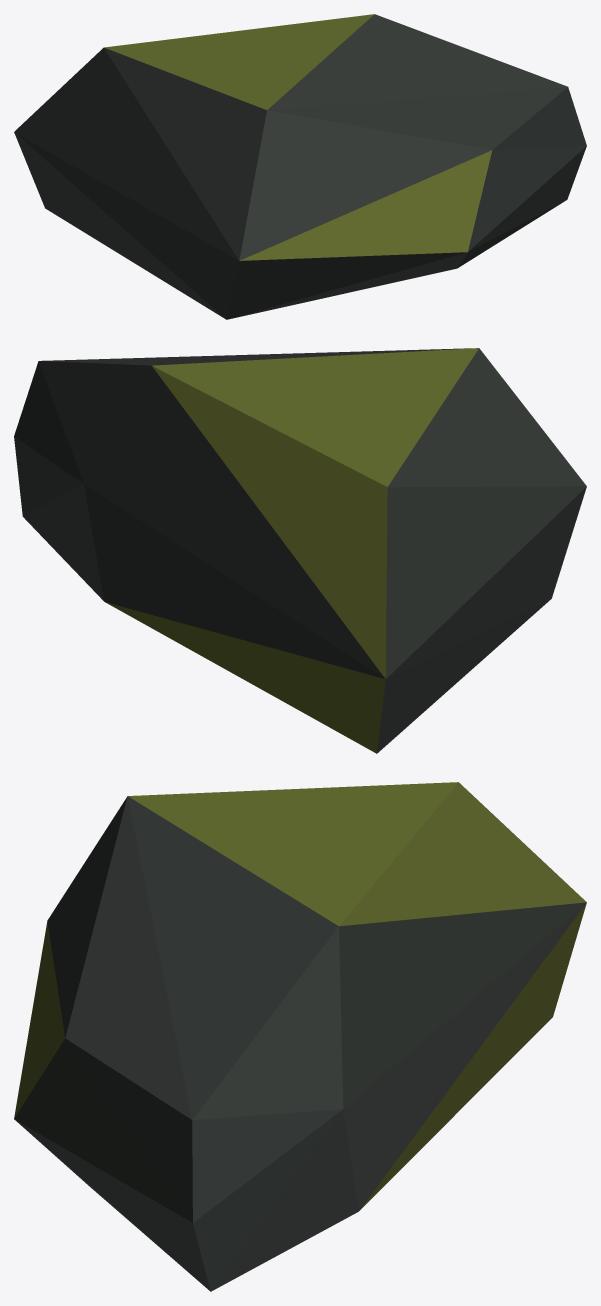
The model's file is ore_uranium_v01_lod2.glb.
The picture shows the model from 3 angles, top to bottom: view 1: azimuth 30°, elevation 25°; view 2: azimuth 150°, elevation 25°; view 3: azimuth 270°, elevation 25°; orthographic projection. The views are drawn at different scales.
Parts seen in each view (by area): view 1: ore_uranium_v01_lod2; view 2: ore_uranium_v01_lod2; view 3: ore_uranium_v01_lod2.
Boxes of the visible parts, x1,y1,x2,y2 form: ore_uranium_v01_lod2: (14,14,586,319); ore_uranium_v01_lod2: (14,348,586,753); ore_uranium_v01_lod2: (14,782,586,1291).
Size of the model in its own units: 2.29 by 0.9677 by 1.87.
